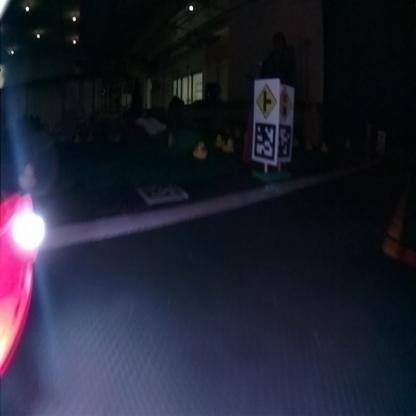Duckie: (194, 142, 208, 158), (224, 141, 236, 153), (216, 134, 224, 146), (307, 140, 313, 148)
Duckiebot: (1, 188, 38, 382)
Intersection sign: (256, 82, 276, 116)
QR code: (138, 180, 188, 206), (254, 121, 274, 160), (279, 124, 292, 158)
Signal sign: (281, 88, 294, 118)
